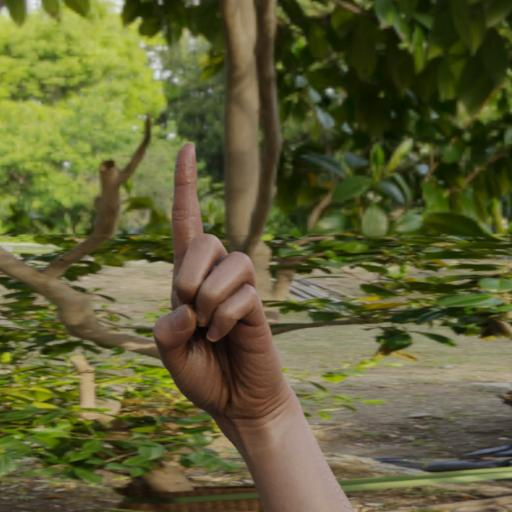D: (150, 140, 295, 417)
